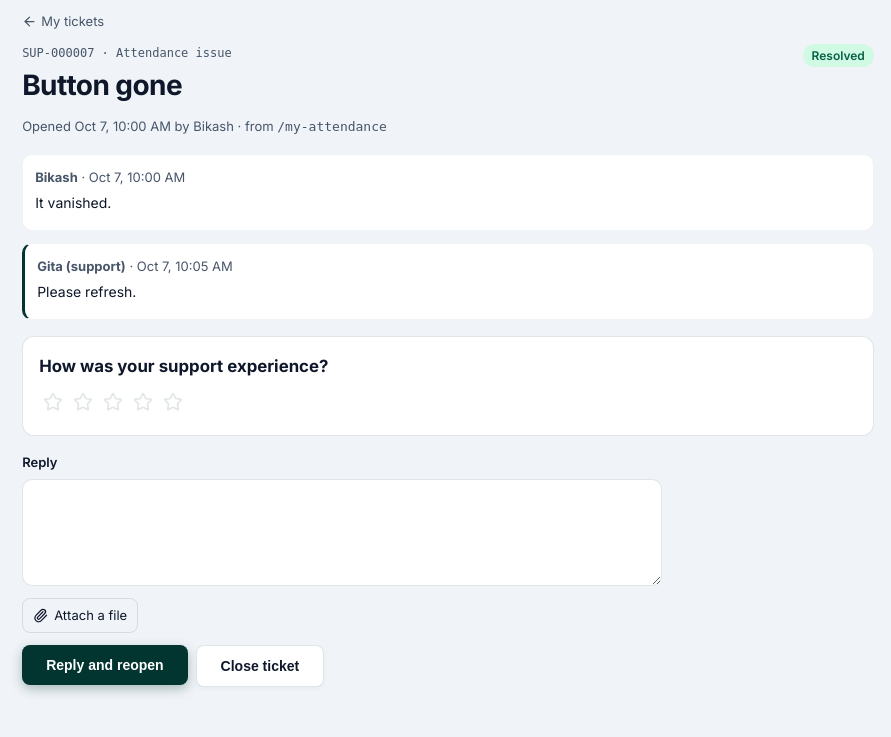
Scenario: Ticket detail › asks how support was once resolved, and sends the rating
The width and height of the screenshot is (891, 737).
Expected: the heading "How was your support experience?" is shown, [39, 356, 328, 376]
Click the button named "5 out of 5". click: (173, 404)
box: [159, 388, 187, 419]
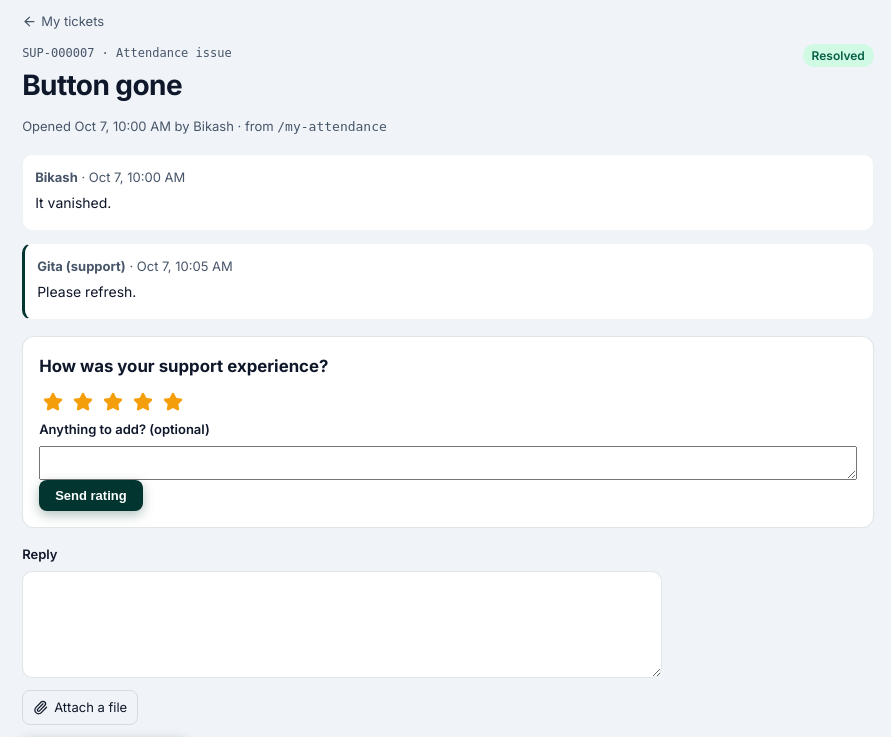
Click the button "Send rating". click: (91, 495)
box: [39, 480, 143, 511]
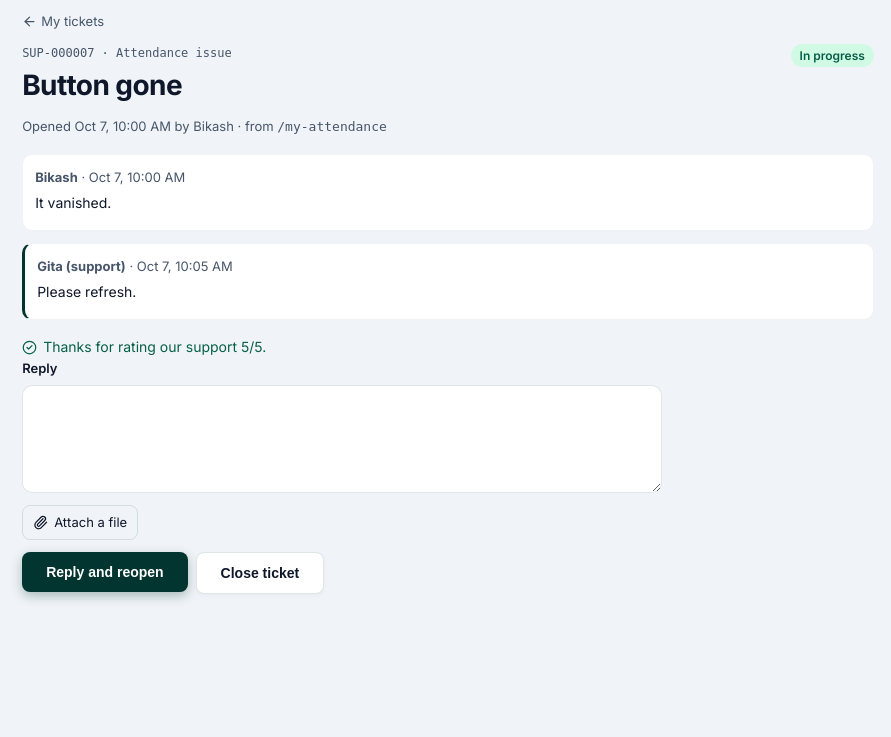
Expected: the text "Thanks for rating our support 5/5." is shown, [22, 338, 266, 355]
